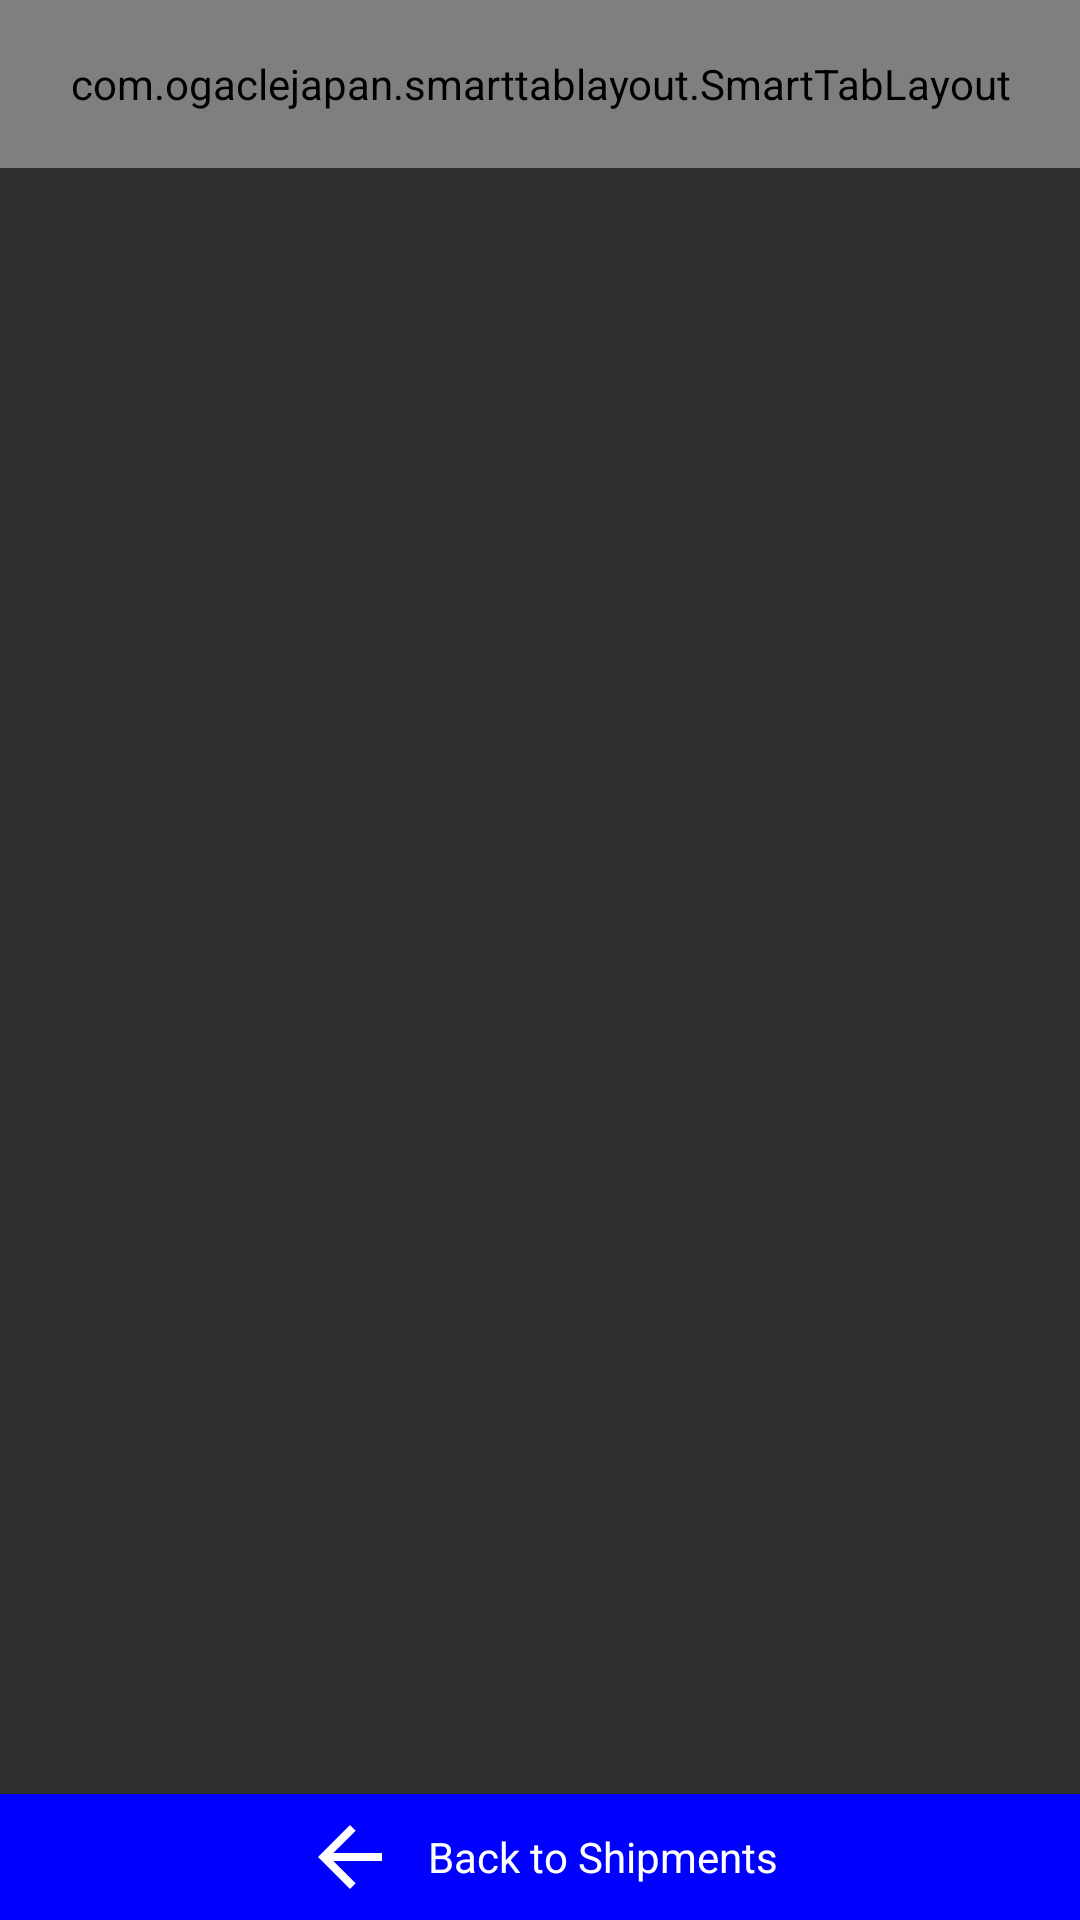

Where to tap for icons on this 1080×1920 app screen, as (x,y):
arrow back: (350,1857)
